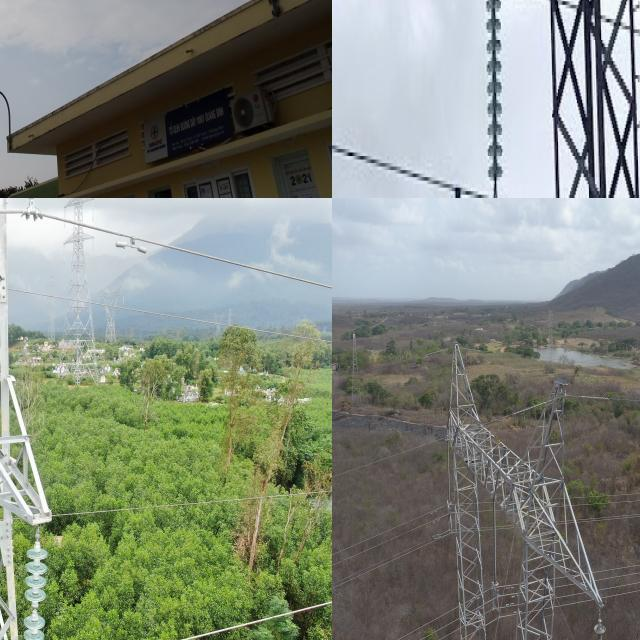杆塔: (441, 335, 608, 640), (476, 0, 640, 198), (0, 198, 61, 640), (57, 198, 101, 389), (346, 333, 367, 415)
正常电缆: (0, 202, 332, 293), (0, 278, 332, 354), (71, 476, 332, 525), (135, 590, 332, 640)
正常绝缘子: (483, 0, 505, 198), (17, 522, 50, 640), (14, 198, 48, 228), (490, 492, 498, 588), (446, 438, 452, 506), (593, 621, 606, 640)
绝缘子破损: (31, 603, 39, 614)
